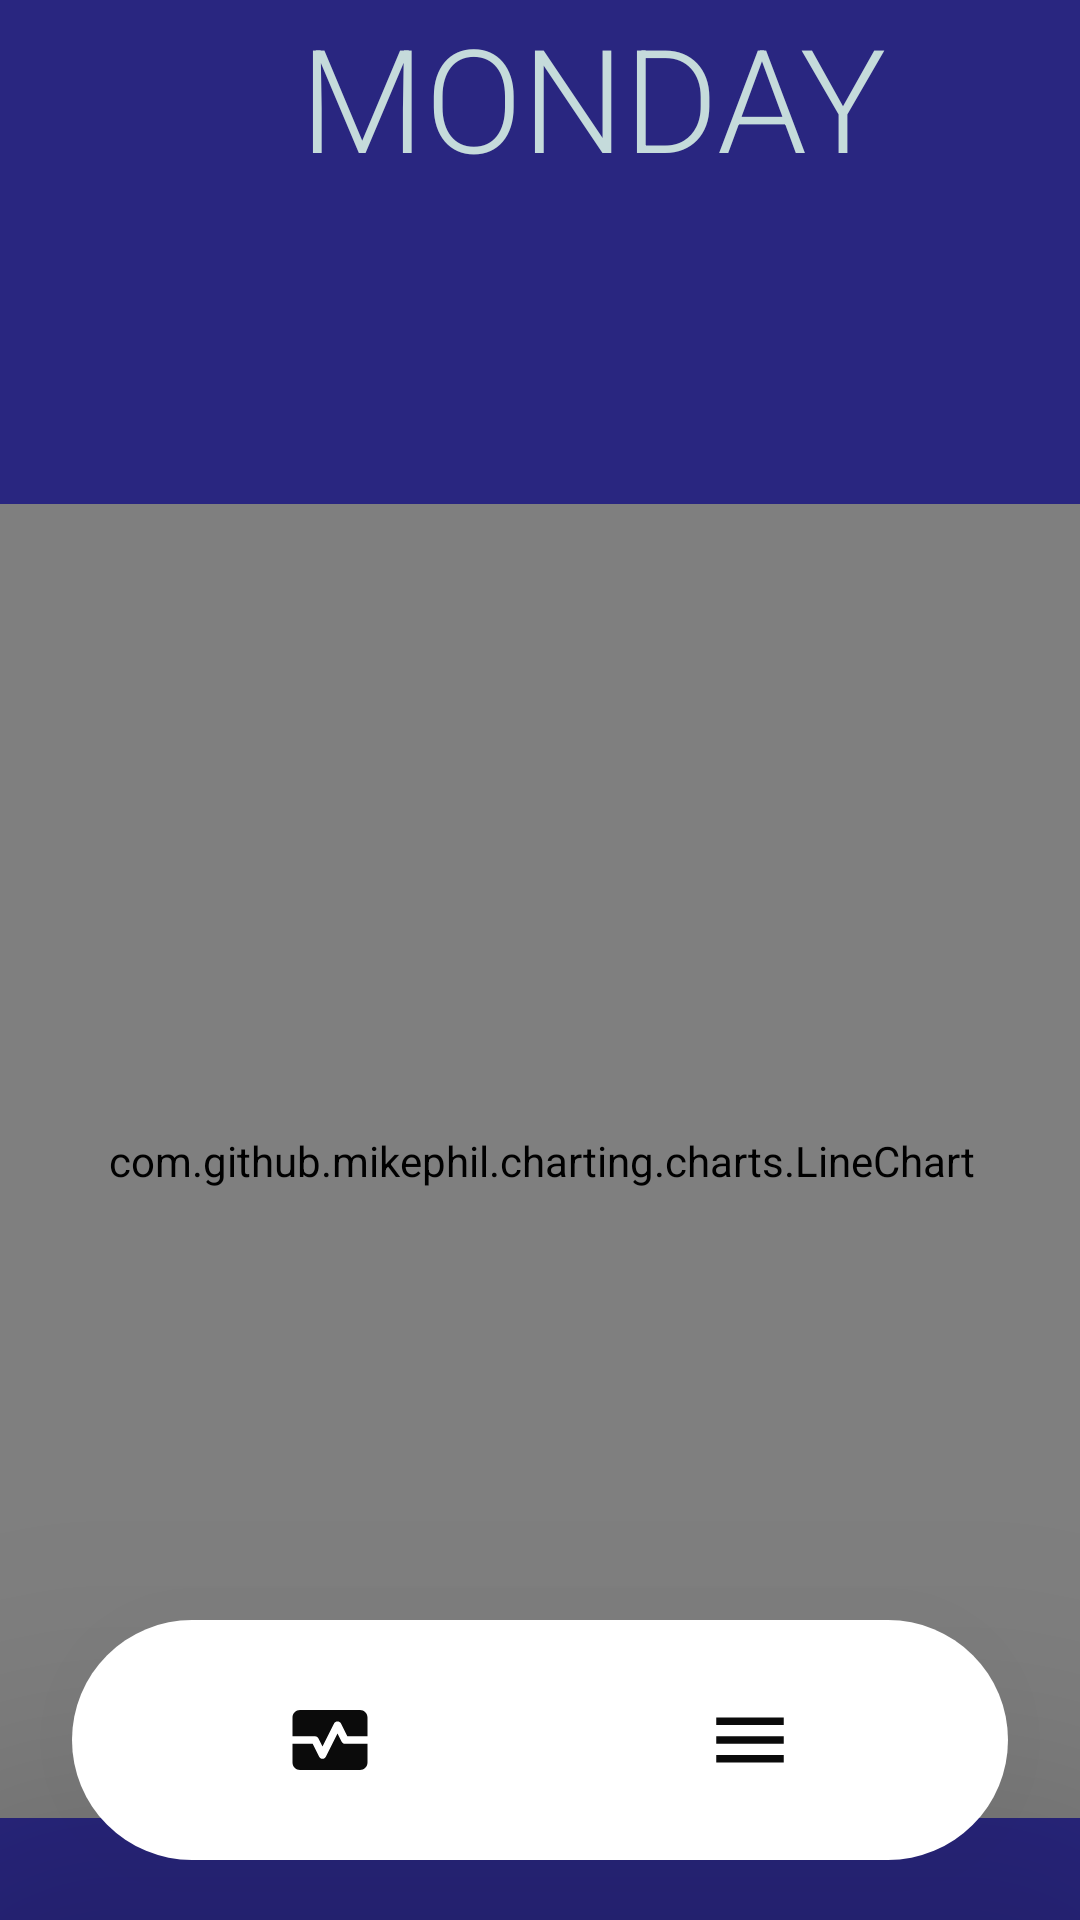

Icon bounding boxes for this 1080 × 1920 phone screenshot, format (x1, y1, x2, y2):
Menu: (716, 1717, 784, 1763)
Today's values: (292, 1710, 368, 1770)
